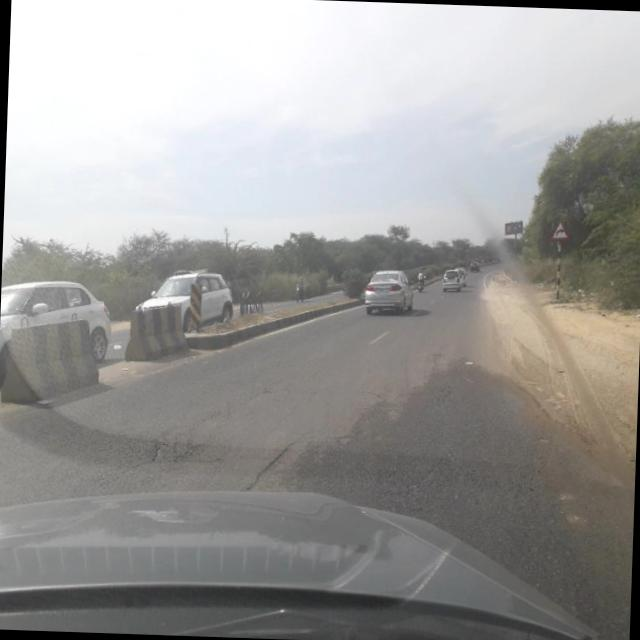crack: (122, 386, 240, 480)
pothole: (238, 434, 304, 492)
